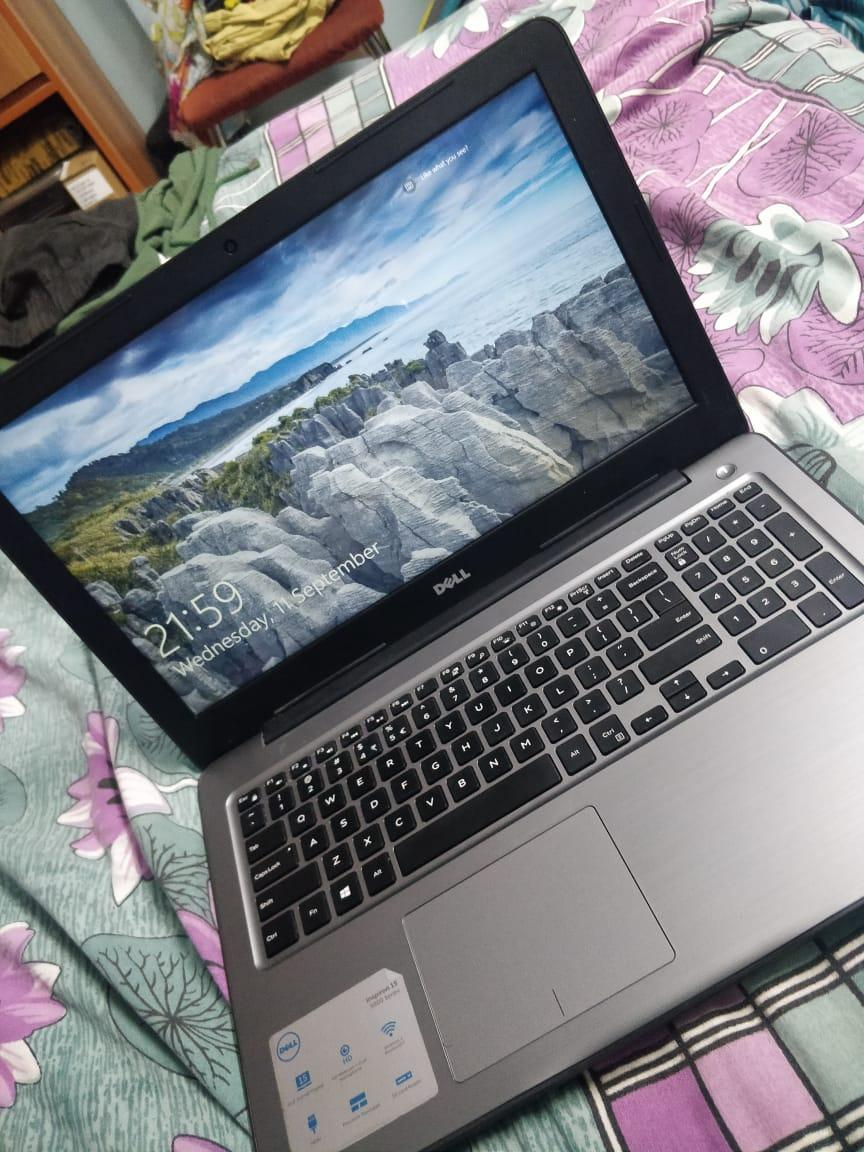laptop: (1, 7, 864, 1152)
